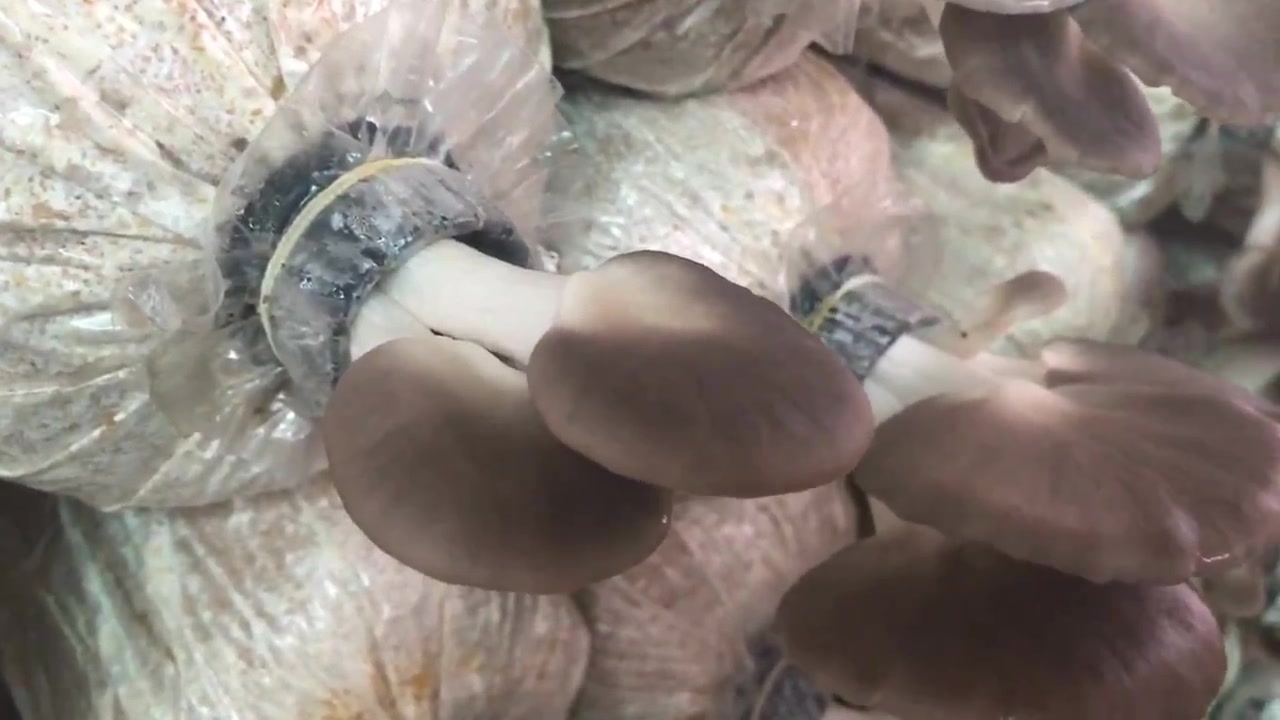nam: (266, 157, 877, 593), (780, 267, 1280, 717), (942, 1, 1276, 181)
